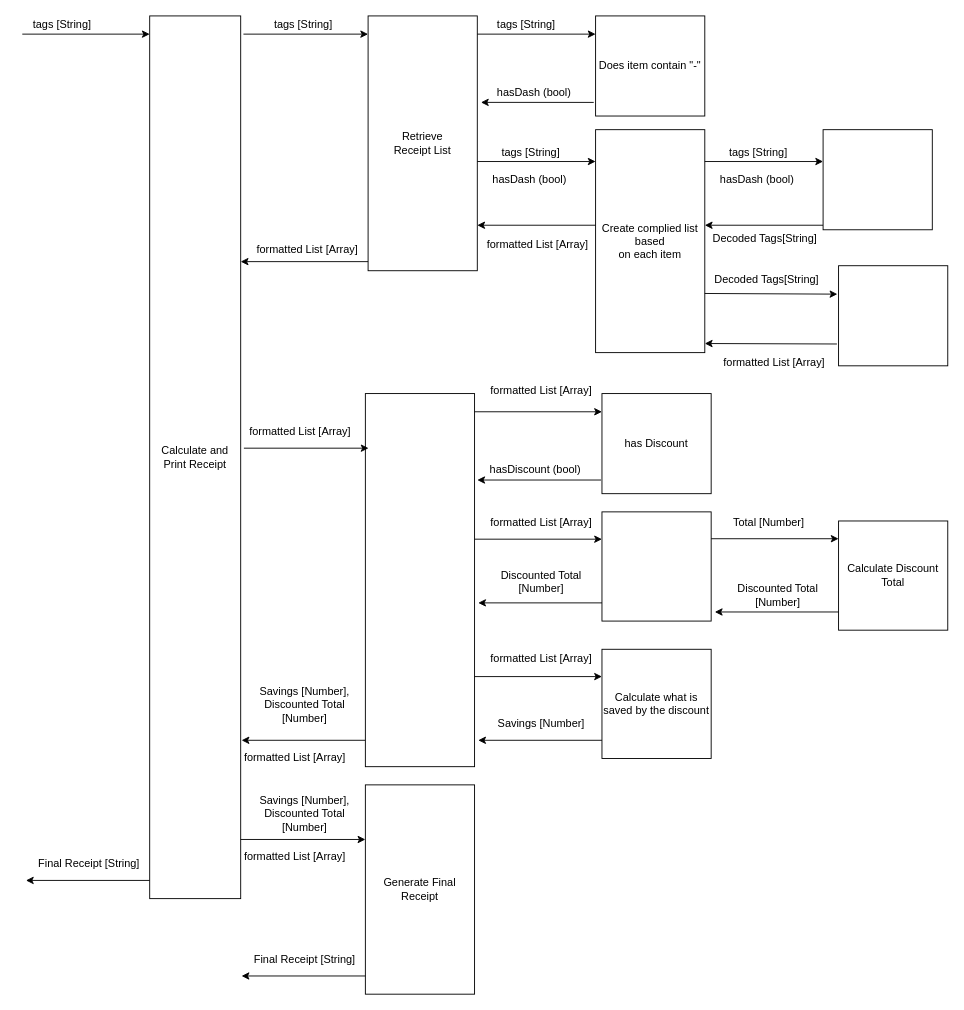
Image size: 964x1010. Some labels were removed from this diagram. The shapes that lost their labels are listed below. From the top down, each one's centre as x and y in pixels, then its label:
At [877,179]: "Decode tags to Barcodes".
At [893,315]: "Retrieve List From Database (loadAllItems)".
At [419,580]: "Calculate For Any Discounts".
At [656,566]: "Calculate Total".
